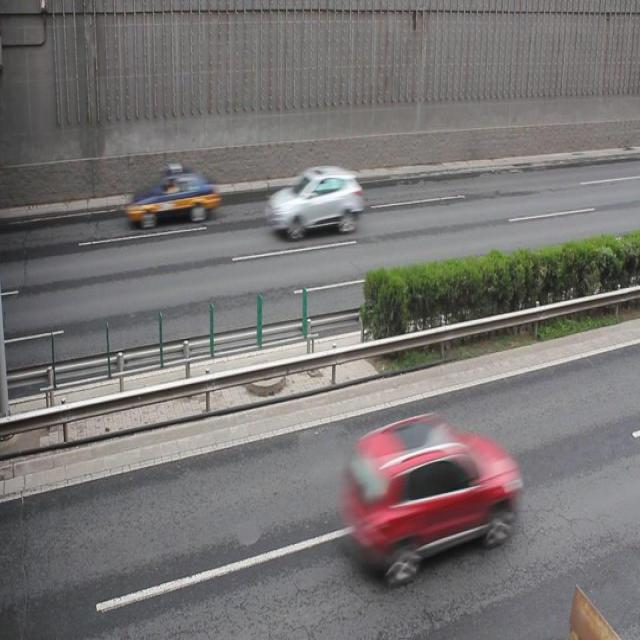car: (347, 412, 515, 576), (267, 165, 362, 232), (126, 164, 219, 226)
